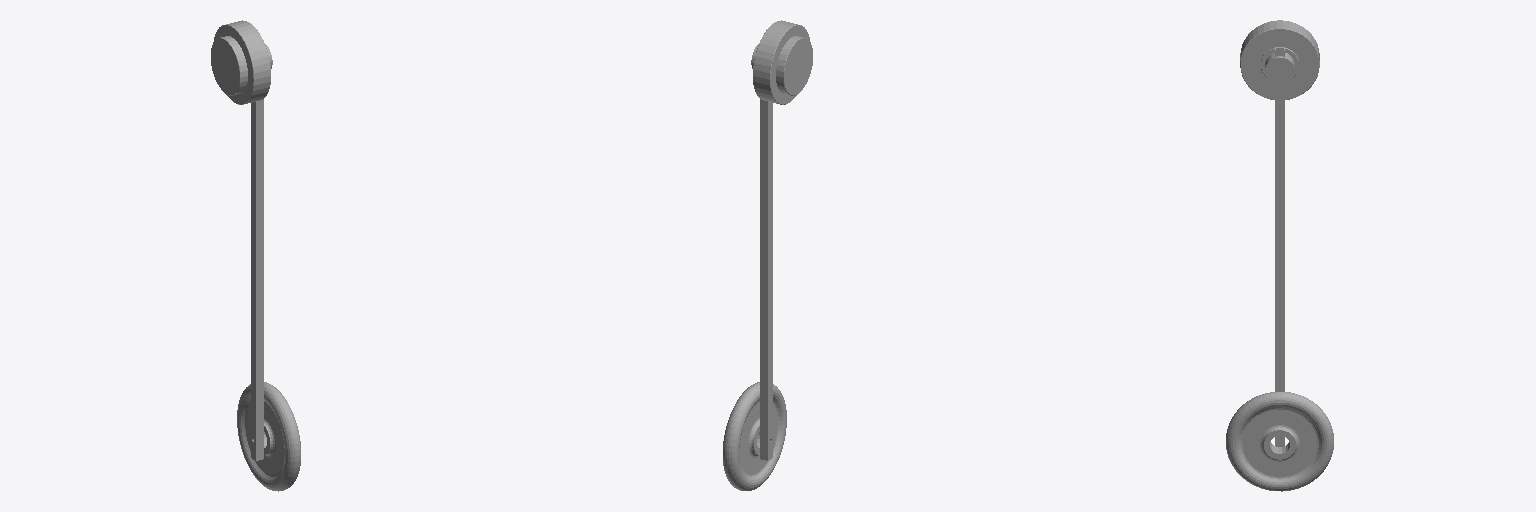
URDF robot description (Einfachpendel_1):
<?xml version="1.0" encoding="utf-8"?>
<!-- This URDF was automatically created by SolidWorks to URDF Exporter! Originally created by [author] ([email redacted]) 
     Commit Version: 1.5.1-0-g916b5db  Build Version: 1.5.7152.31018
     For more information, please see http://wiki.ros.org/sw_urdf_exporter -->
<robot
  name="Einfachpendel_1">
  <link
    name="base_link">
    <inertial>
      <origin
        xyz="-0.018311 -3.0759E-20 -9.9364E-19"
        rpy="0 0 0" />
      <mass
        value="0.48493" />
      <inertia
        ixx="0.0005214"
        ixy="-1.5468E-21"
        ixz="-8.6267E-21"
        iyy="0.00030659"
        iyz="7.9773E-21"
        izz="0.00030659" />
    </inertial>
    <visual>
      <origin
        xyz="0 0 0"
        rpy="0 0 0" />
      <geometry>
        <mesh
          filename="package://Einfachpendel_1/meshes/base_link.STL" />
      </geometry>
      <material
        name="">
        <color
          rgba="0.69804 0.69804 0.69804 1" />
      </material>
    </visual>
    <collision>
      <origin
        xyz="0 0 0"
        rpy="0 0 0" />
      <geometry>
        <mesh
          filename="package://Einfachpendel_1/meshes/base_link.STL" />
      </geometry>
    </collision>
  </link>
  <link
    name="Link_1">
    <inertial>
      <origin
        xyz="0.019646 0.4338 -4.9518E-17"
        rpy="0 0 0" />
      <mass
        value="0.67531" />
      <inertia
        ixx="0.0033459"
        ixy="1.5719E-20"
        ixz="-1.286E-19"
        iyy="0.00068565"
        iyz="1.6189E-20"
        izz="0.0026883" />
    </inertial>
    <visual>
      <origin
        xyz="0 0 0"
        rpy="0 0 0" />
      <geometry>
        <mesh
          filename="package://Einfachpendel_1/meshes/Link_1.STL" />
      </geometry>
      <material
        name="">
        <color
          rgba="0.69804 0.69804 0.69804 1" />
      </material>
    </visual>
    <collision>
      <origin
        xyz="0 0 0"
        rpy="0 0 0" />
      <geometry>
        <mesh
          filename="package://Einfachpendel_1/meshes/Link_1.STL" />
      </geometry>
    </collision>
  </link>
  <joint
    name="Joint_1"
    type="revolute">
    <origin
      xyz="-0.0005 0 0"
      rpy="-1.5708 0 0" />
    <parent
      link="base_link" />
    <child
      link="Link_1" />
    <axis
      xyz="1 0 0" />
    <limit
      lower="0"
      upper="0"
      effort="0"
      velocity="0" />
  </joint>
</robot>

--- Facts derived from the render (not from the file) ---
3 views of the same robot in one strip: view 1: azimuth 30°, elevation 25°; view 2: azimuth 150°, elevation 25°; view 3: azimuth 270°, elevation 25° (orthographic).
Robot: Einfachpendel_1 — 2 links, 1 joints (1 revolute); root link base_link; default pose: all joints at 0.
Links seen in each view (by area): view 1: Link_1, base_link; view 2: Link_1, base_link; view 3: Link_1, base_link.
Boxes of the visible links, x1,y1,x2,y2 form: Link_1: [237, 40, 300, 491]; base_link: [211, 20, 270, 104]; Link_1: [723, 40, 786, 490]; base_link: [753, 20, 812, 104]; Link_1: [1226, 47, 1333, 491]; base_link: [1240, 20, 1319, 99].
Size in the robot's own frame: 0.0705 by 0.134 by 0.6158 metres.
2 mesh visuals loaded from 2 distinct referenced files (2 binary STL).